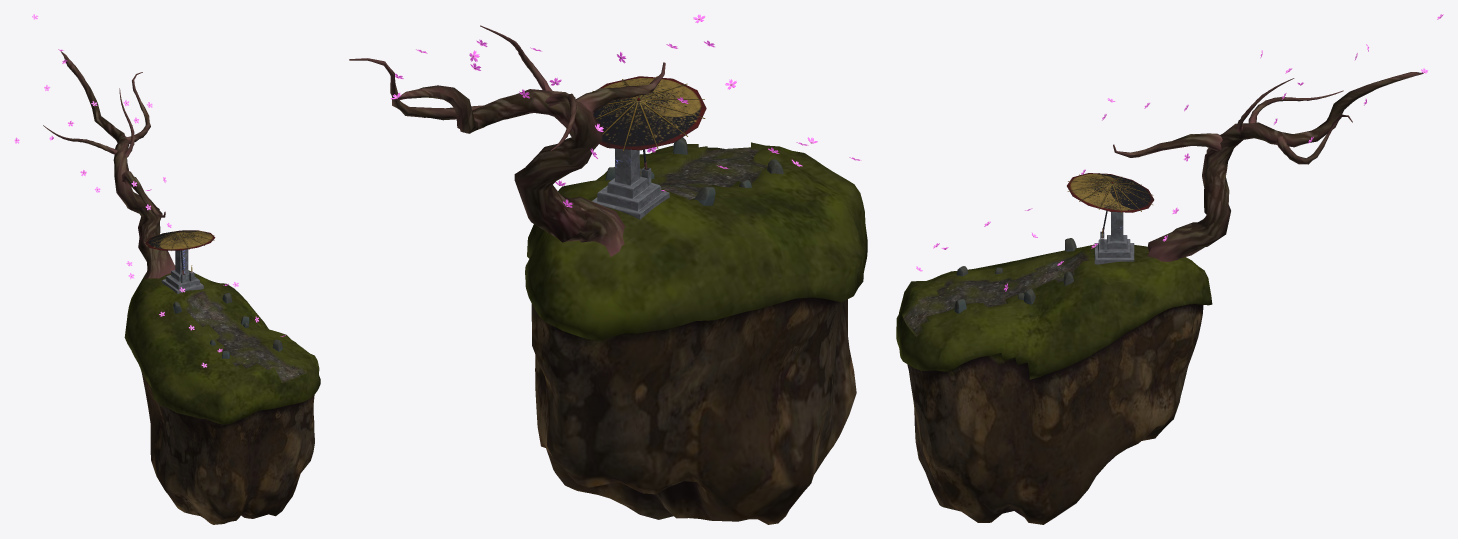
The model's file is finale.glb.
3 views of the same model, side by side, from view 1: azimuth 30°, elevation 25°; view 2: azimuth 150°, elevation 25°; view 3: azimuth 270°, elevation 25° (orthographic). The views are drawn at different scales.
Visible parts, largest first — view 1: Cliff, Tree_base, UmbrellaShade, Grave, Tree_Branch1, Tree_Branch2; view 2: Cliff, Tree_base, UmbrellaShade, Grave, Tree_Branch1, Tree_Branch2, Umbrella1; view 3: Cliff, Tree_base, UmbrellaShade, Grave, Tree_Branch1, Tree_Branch2.
Part boxes in pixels (box(x1,y1,x2,y2)): Cliff: box(124, 265, 320, 524); Tree_base: box(61, 51, 175, 279); UmbrellaShade: box(145, 230, 215, 250); Grave: box(162, 249, 203, 293); Tree_Branch1: box(122, 171, 165, 217); Tree_Branch2: box(125, 72, 150, 143); Cliff: box(525, 142, 867, 524); Tree_base: box(396, 85, 624, 256); UmbrellaShade: box(593, 76, 706, 150); Grave: box(592, 148, 669, 219); Tree_Branch1: box(575, 62, 665, 114); Tree_Branch2: box(349, 58, 483, 120); Umbrella1: box(592, 76, 705, 169); Cliff: box(896, 244, 1212, 524); Tree_base: box(1147, 72, 1423, 261); UmbrellaShade: box(1067, 173, 1154, 212); Grave: box(1094, 212, 1134, 264); Tree_Branch1: box(1113, 133, 1222, 157); Tree_Branch2: box(1276, 114, 1352, 164).
Size of the model in its own units: 0.2816 by 0.7125 by 0.7458.
9 materials, 9 textured.
